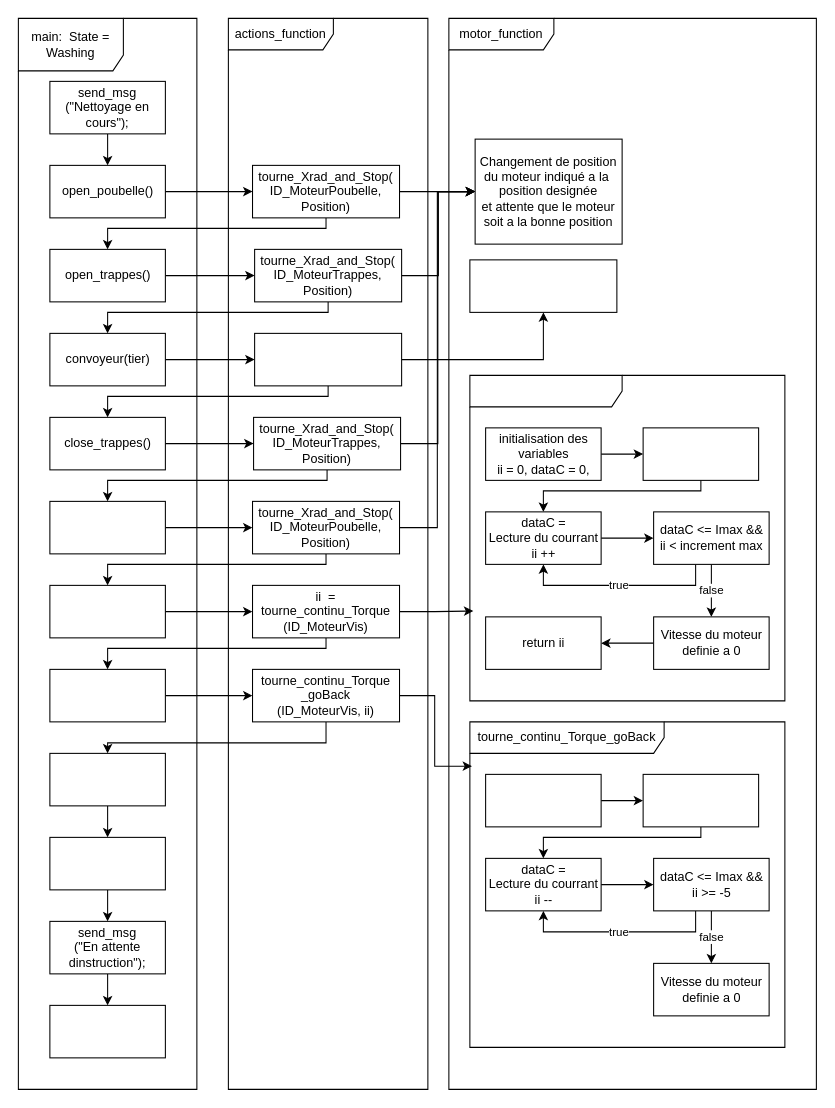
This 835x1108 diagram has some shape labels left out. The shapes that lost their labels are listed below. From the top down, each one's box as (x1, y1, x2, y2) in pixels, then its label:
(469, 259, 617, 312): Vitesse du moteur définie pour un délai, ensuite remise a zero
(254, 332, 402, 386): tourne_continu_NMBTours (ID_MoteurConvoyeur, NMB_Tiers)
(642, 427, 759, 480): Vitesse de moteur définie a V_VIS
(49, 500, 165, 554): close_poubelle()
(469, 374, 785, 701): tourne_continu_Torque
(49, 584, 165, 638): int ii = compression_litiere (percent)
(49, 668, 165, 722): home_litiere (percent, ii)
(49, 752, 165, 806): send_msg ("Nettoyage fini");
(485, 773, 601, 827): initialisation des variables dataC = 0,
(642, 773, 759, 827): Vitesse de moteur définie a -V_VIS
(49, 836, 165, 890): State = Wait
(49, 1004, 165, 1058): break;
